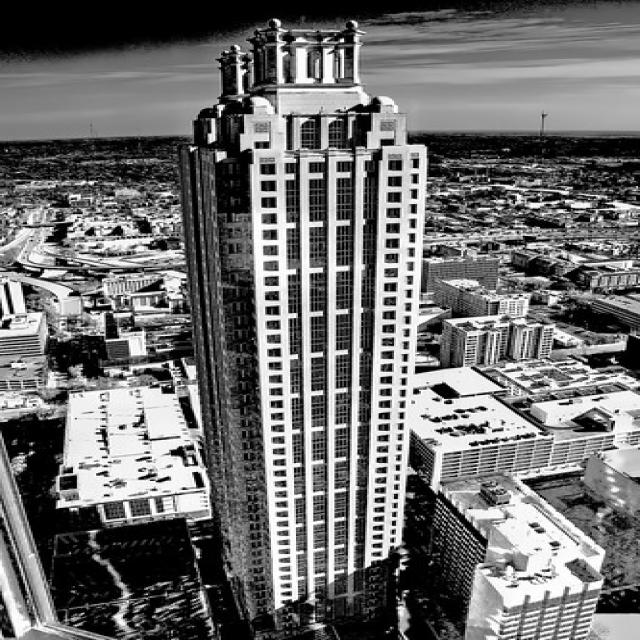Normal_building: (168, 16, 420, 638)
